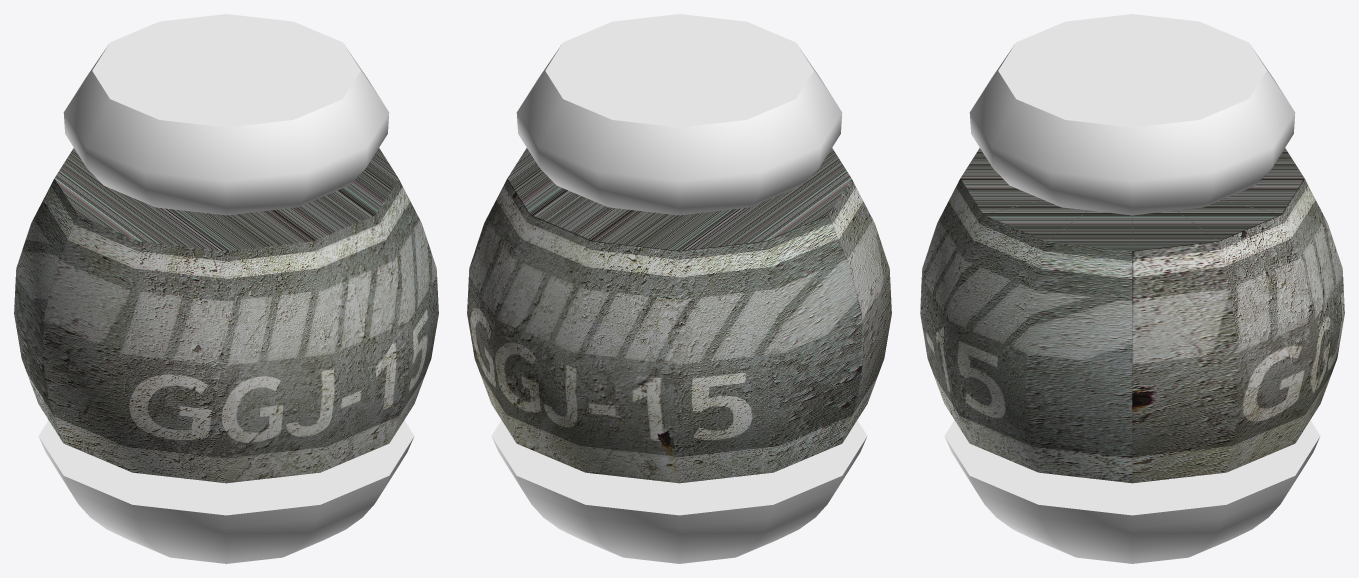
Rendered from RobotGen01.FBX.
The picture shows the model from 3 angles, left to right: view 1: azimuth 30°, elevation 25°; view 2: azimuth 150°, elevation 25°; view 3: azimuth 270°, elevation 25°; orthographic projection.
Parts seen in each view (by area): view 1: Cylinder002, Cylinder003, Cylinder004; view 2: Cylinder002, Cylinder003, Cylinder004; view 3: Cylinder002, Cylinder003, Cylinder004.
Boxes of the visible parts, <box> form: Cylinder002: <box>14,148,438,483</box>; Cylinder003: <box>63,14,389,215</box>; Cylinder004: <box>38,420,414,563</box>; Cylinder002: <box>467,148,891,483</box>; Cylinder003: <box>516,14,842,215</box>; Cylinder004: <box>491,420,867,563</box>; Cylinder002: <box>920,148,1344,483</box>; Cylinder003: <box>969,14,1295,215</box>; Cylinder004: <box>944,420,1320,563</box>.
Bounding box in the file's own units: 1.2 × 1.2 × 1.38.
Materials: 2 (1 with a texture image).
